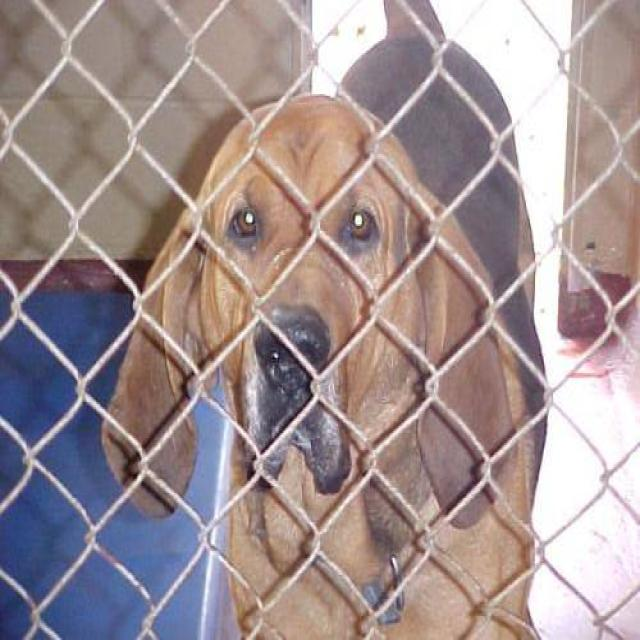dog: (99, 0, 549, 638)
